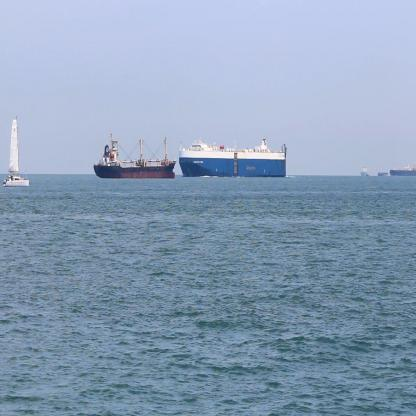Container Ship: (178, 134, 288, 180), (92, 128, 180, 182), (388, 162, 416, 178), (360, 163, 371, 179)
